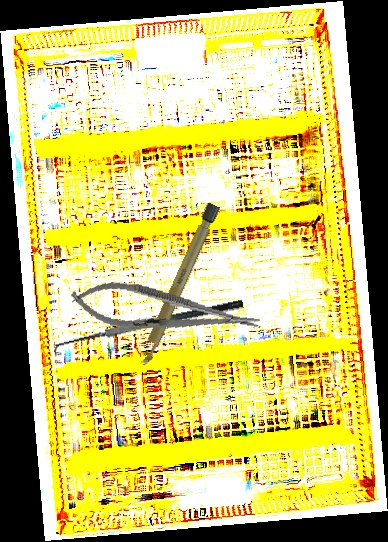Needle Holder: (67, 275, 263, 347)
Scalpel Handle: (136, 202, 221, 368)
Spatula Surgical: (51, 297, 247, 362)
